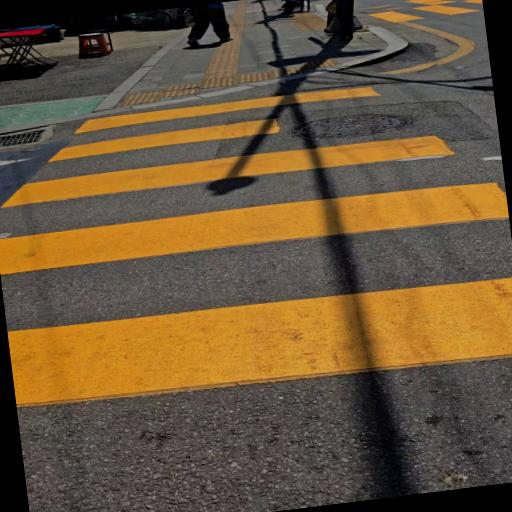yellow-crosswalk: (0, 53, 512, 450), (330, 0, 485, 40)
